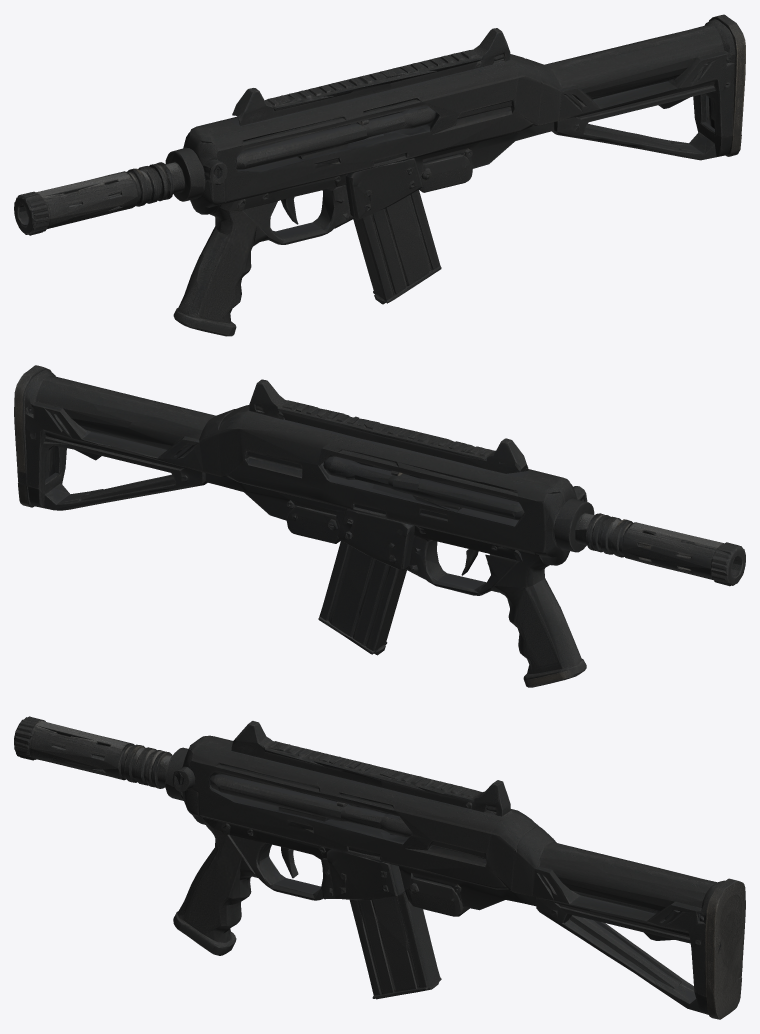
The model's file is smg.glb.
3 renders of one model, top to bottom at view 1: azimuth 30°, elevation 25°; view 2: azimuth 150°, elevation 25°; view 3: azimuth 330°, elevation 25°, orthographic.
Parts seen in each view (by area): view 1: mesh_node; view 2: mesh_node; view 3: mesh_node.
Part boxes in pixels (bbox=[...]): mesh_node: bbox=[14, 14, 745, 336]; mesh_node: bbox=[14, 365, 745, 687]; mesh_node: bbox=[14, 716, 745, 1019].
Bounding box in the file's own units: 1.9 × 0.6233 × 0.1655.
Materials: 1 (1 with a texture image).
